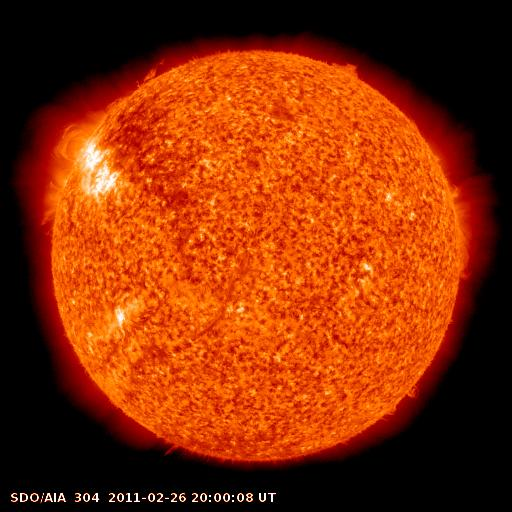prominence: (135, 44, 197, 90), (447, 225, 490, 289), (325, 47, 369, 90)
